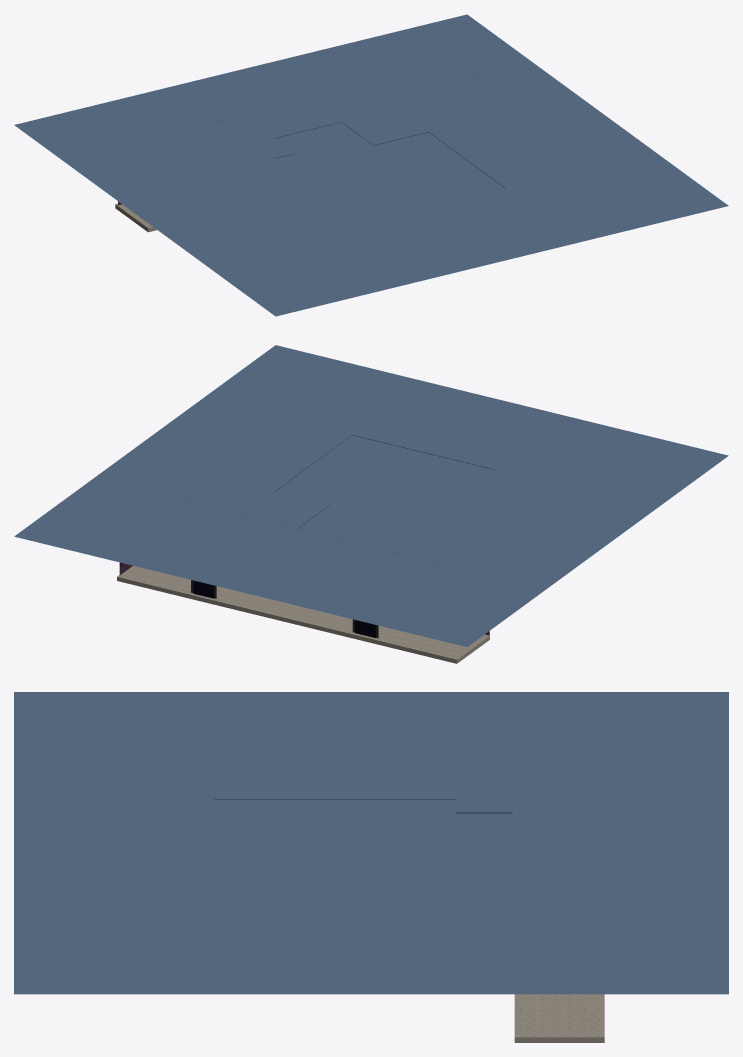
Rendered from INT_YourHome.fbx.
3 renders of one model, top to bottom at view 1: azimuth 30°, elevation 25°; view 2: azimuth 150°, elevation 25°; view 3: azimuth 270°, elevation 25°, orthographic. The views are drawn at different scales.
Visible parts, largest first — view 1: Plane.043; view 2: Plane.043, Cube.1755; view 3: Plane.043, Cube.1755.
Boxes of the visible parts, box(x1,y1,x2,y2) form: Plane.043: box(14, 14, 728, 316); Plane.043: box(14, 345, 728, 646); Cube.1755: box(117, 565, 489, 663); Plane.043: box(14, 692, 728, 994); Cube.1755: box(514, 994, 604, 1042).
Size of the model in its own units: 3981 by 536 by 3981.
